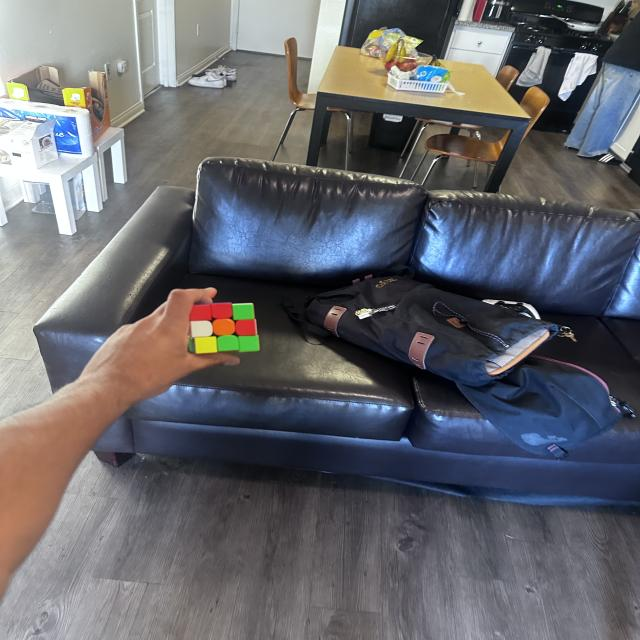sticker: (192, 336, 218, 355), (212, 318, 236, 336), (232, 302, 255, 320), (190, 321, 214, 338), (211, 302, 233, 320), (238, 334, 260, 352), (216, 334, 238, 352), (235, 318, 257, 336), (190, 304, 212, 322)
